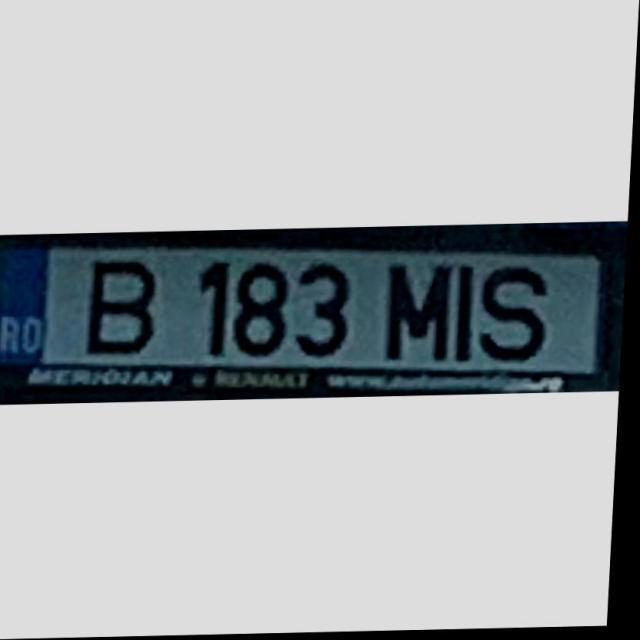license-plates: (0, 222, 628, 404)
